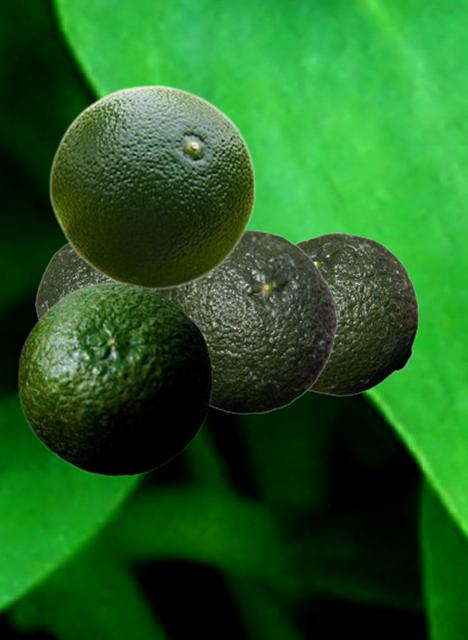calamansi: (48, 84, 256, 289), (17, 281, 211, 476), (157, 229, 337, 413), (296, 232, 418, 395), (35, 241, 109, 320)
